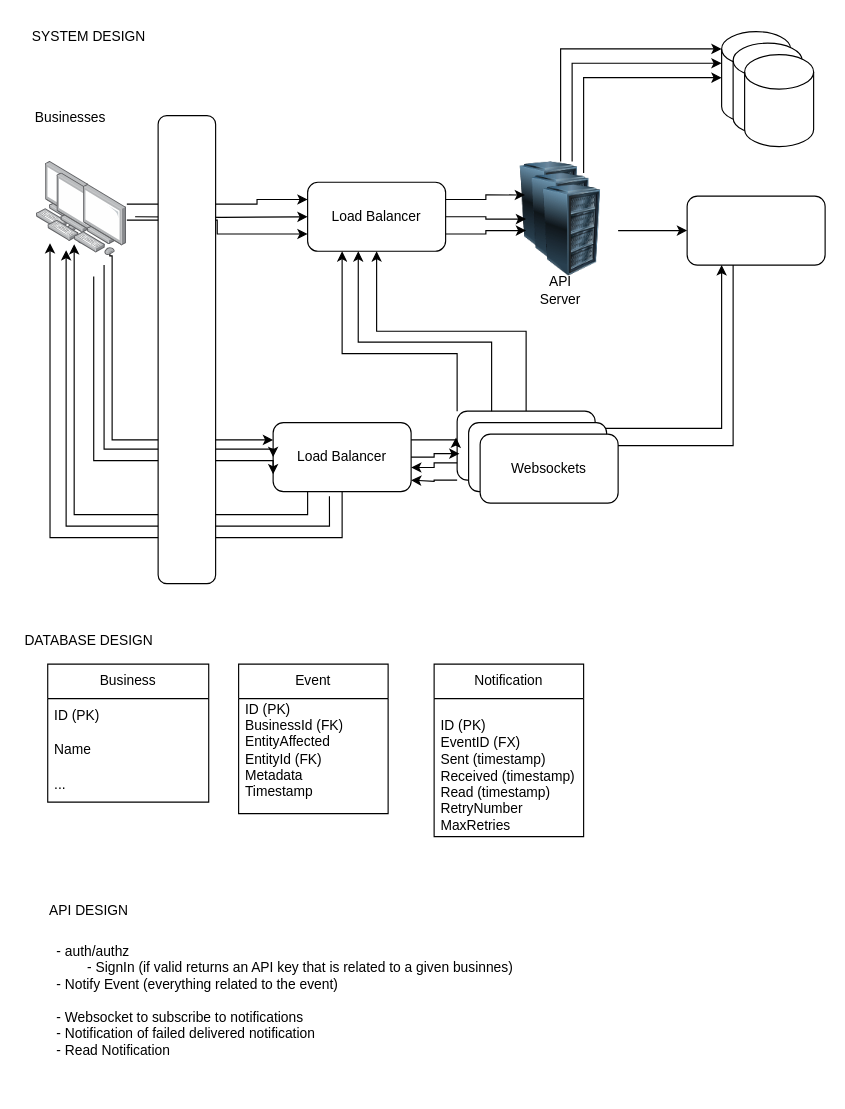
Image size: 845x1109. Some labels were removed from this diagram. Each missing label, with the centre of its shape:
Auth: point 186,349
Message Queue: point 755,230
